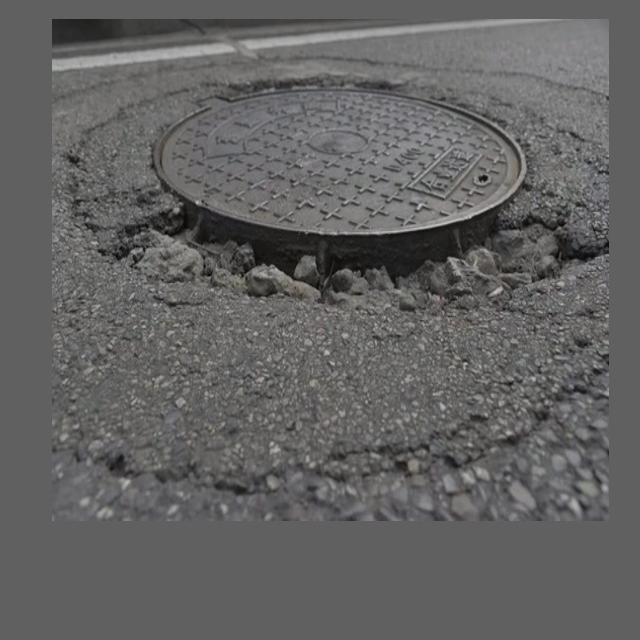circle: (68, 57, 600, 362)
